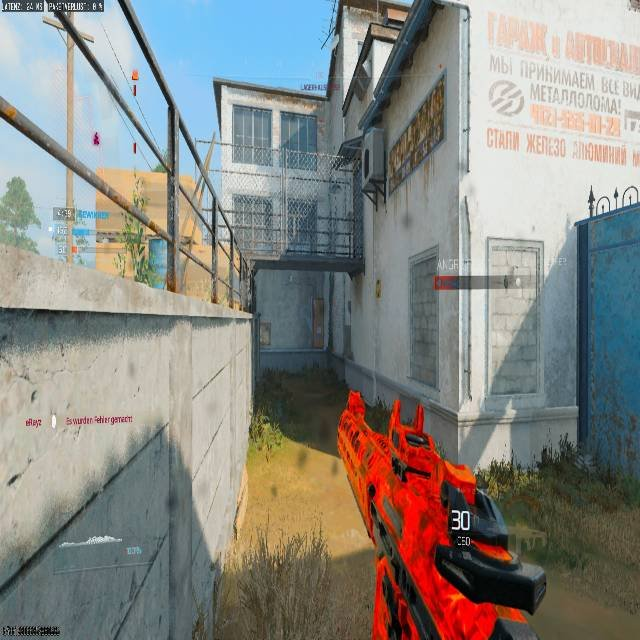player: (71, 234, 88, 266)
